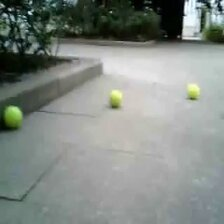tennis: (3, 105, 23, 128), (108, 90, 123, 107), (186, 85, 200, 99)
